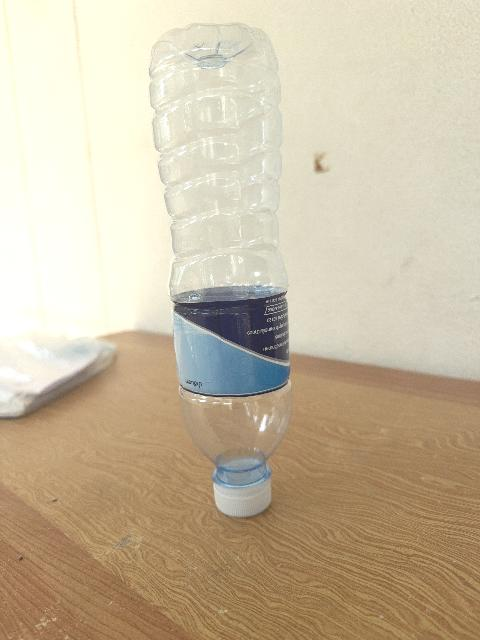bottle: (150, 24, 291, 516)
